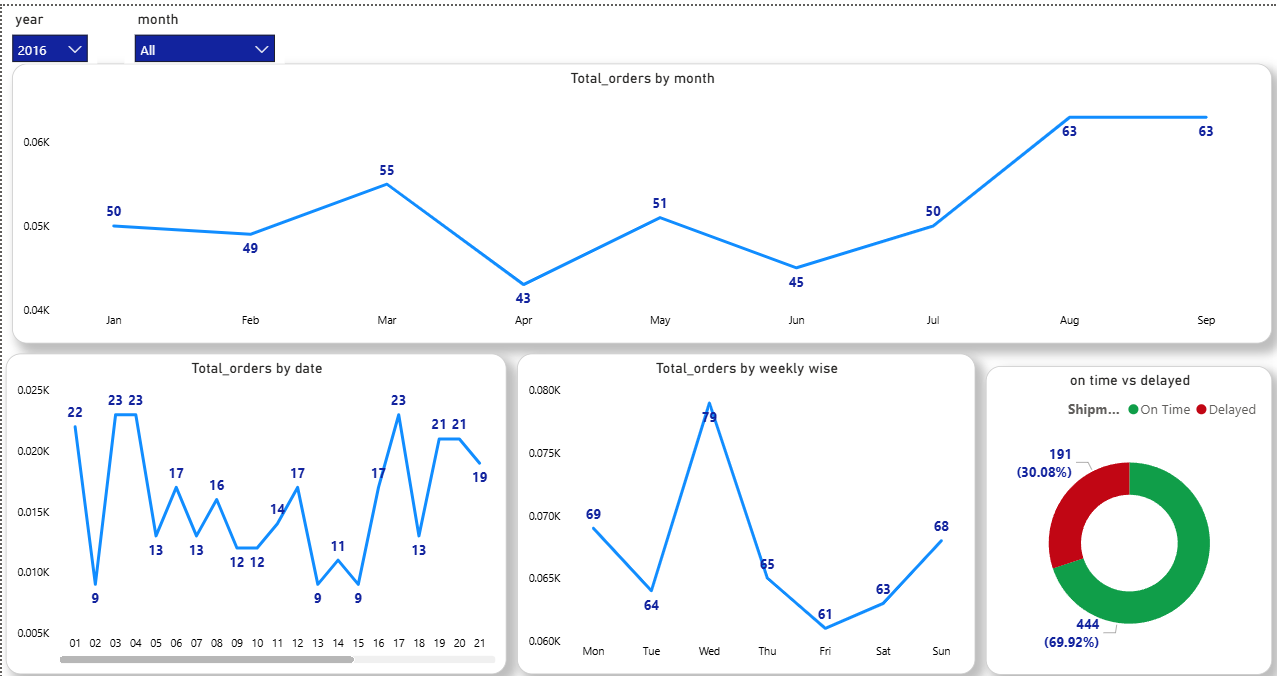

This screenshot's page, from the dashboard's own definition file:
{"tool":"powerbi","page":{"name":"Business Insights3","canvas":[1280,720],"ordinal":5},"visuals":[{"type":"lineChart","fields":{"Y":["order_items.Total_orders"],"Category":["Calender_date.month"]},"box":[9.6,57.6,1259.7,279.9],"z":0},{"type":"lineChart","fields":{"Y":["order_items.Total_orders"],"Category":["Calender_date.date"]},"box":[4.1,347.2,500.9,321.1],"z":1000},{"type":"lineChart","title":"Total_orders by weekly wise","fields":{"Y":["order_items.Total_orders"],"Category":["Calender_date.day"]},"box":[514.6,347.2,458.3,321.1],"z":2000},{"type":"slicer","fields":{"Values":["Calender_date.year"]},"box":[0,0,95.6,57.8],"z":3000},{"type":"slicer","fields":{"Values":["Calender_date.month"]},"box":[122.2,0,160,57.8],"z":4000},{"type":"donutChart","title":"on time vs delayed","fields":{"Category":["orders.Shipment Status"],"Y":["CountNonNull(orders.order_id)"]},"box":[983.9,359.5,286.8,308.7],"z":5000}]}

Visuals, with their boxes on the page's 1280x720 design canvas (x1, y1, x2, y2). These are canvas units, not pixel positions in the 1277x676 screenshot, which may show the page scaled, cropped or inside an application window:
lineChart - order_items.Total_orders x Calender_date.month: Rect(10, 58, 1269, 338)
lineChart - order_items.Total_orders x Calender_date.date: Rect(4, 347, 505, 668)
"Total_orders by weekly wise" lineChart: Rect(515, 347, 973, 668)
slicer - Calender_date.year: Rect(0, 0, 96, 58)
slicer - Calender_date.month: Rect(122, 0, 282, 58)
"on time vs delayed" donutChart: Rect(984, 360, 1271, 668)
